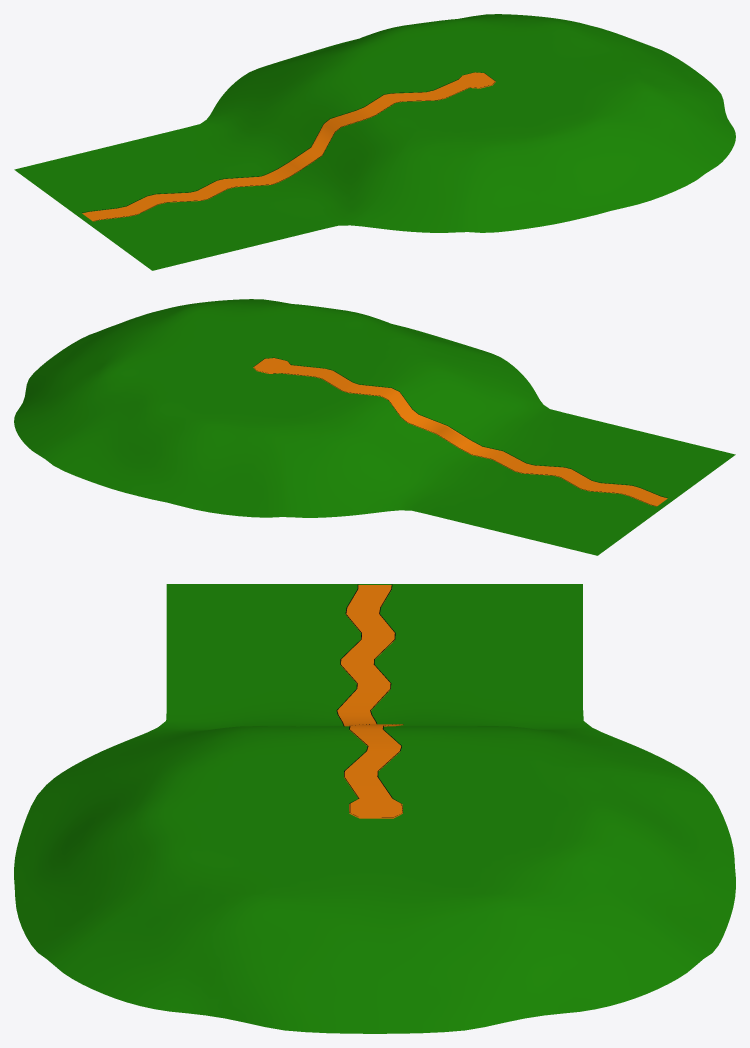
Rendered from Ground.fbx.
The picture shows the model from 3 angles, top to bottom: view 1: azimuth 30°, elevation 25°; view 2: azimuth 150°, elevation 25°; view 3: azimuth 270°, elevation 25°; orthographic projection. The views are drawn at different scales.
Visible parts, largest first — view 1: Plane; view 2: Plane; view 3: Plane.
Part boxes in pixels (<box>): Plane: <box>14,14,735,270</box>; Plane: <box>14,299,735,555</box>; Plane: <box>14,584,735,1033</box>.
Bounding box in the file's own units: 15502 × 1135 × 10516.
